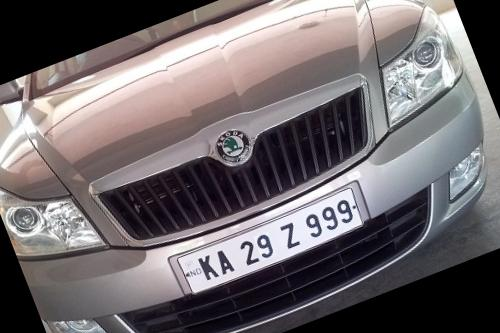plate: (168, 180, 382, 305)
